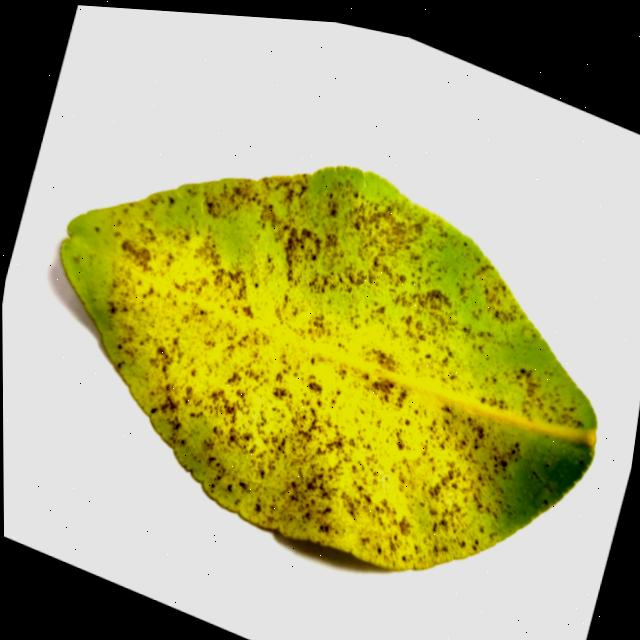melanose: (60, 167, 596, 570)
